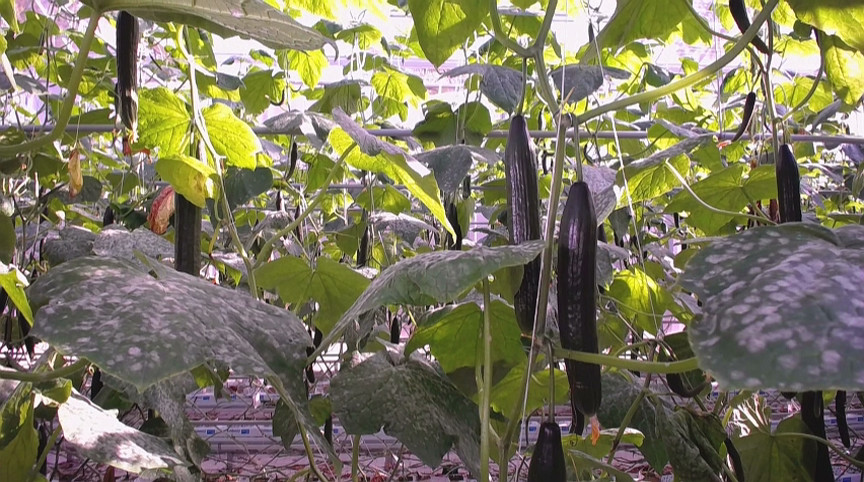cucumber: (558, 183, 602, 419), (507, 113, 538, 336), (113, 9, 141, 133), (173, 192, 202, 280), (773, 144, 802, 224), (728, 1, 770, 52), (529, 423, 564, 482), (834, 389, 851, 449)
